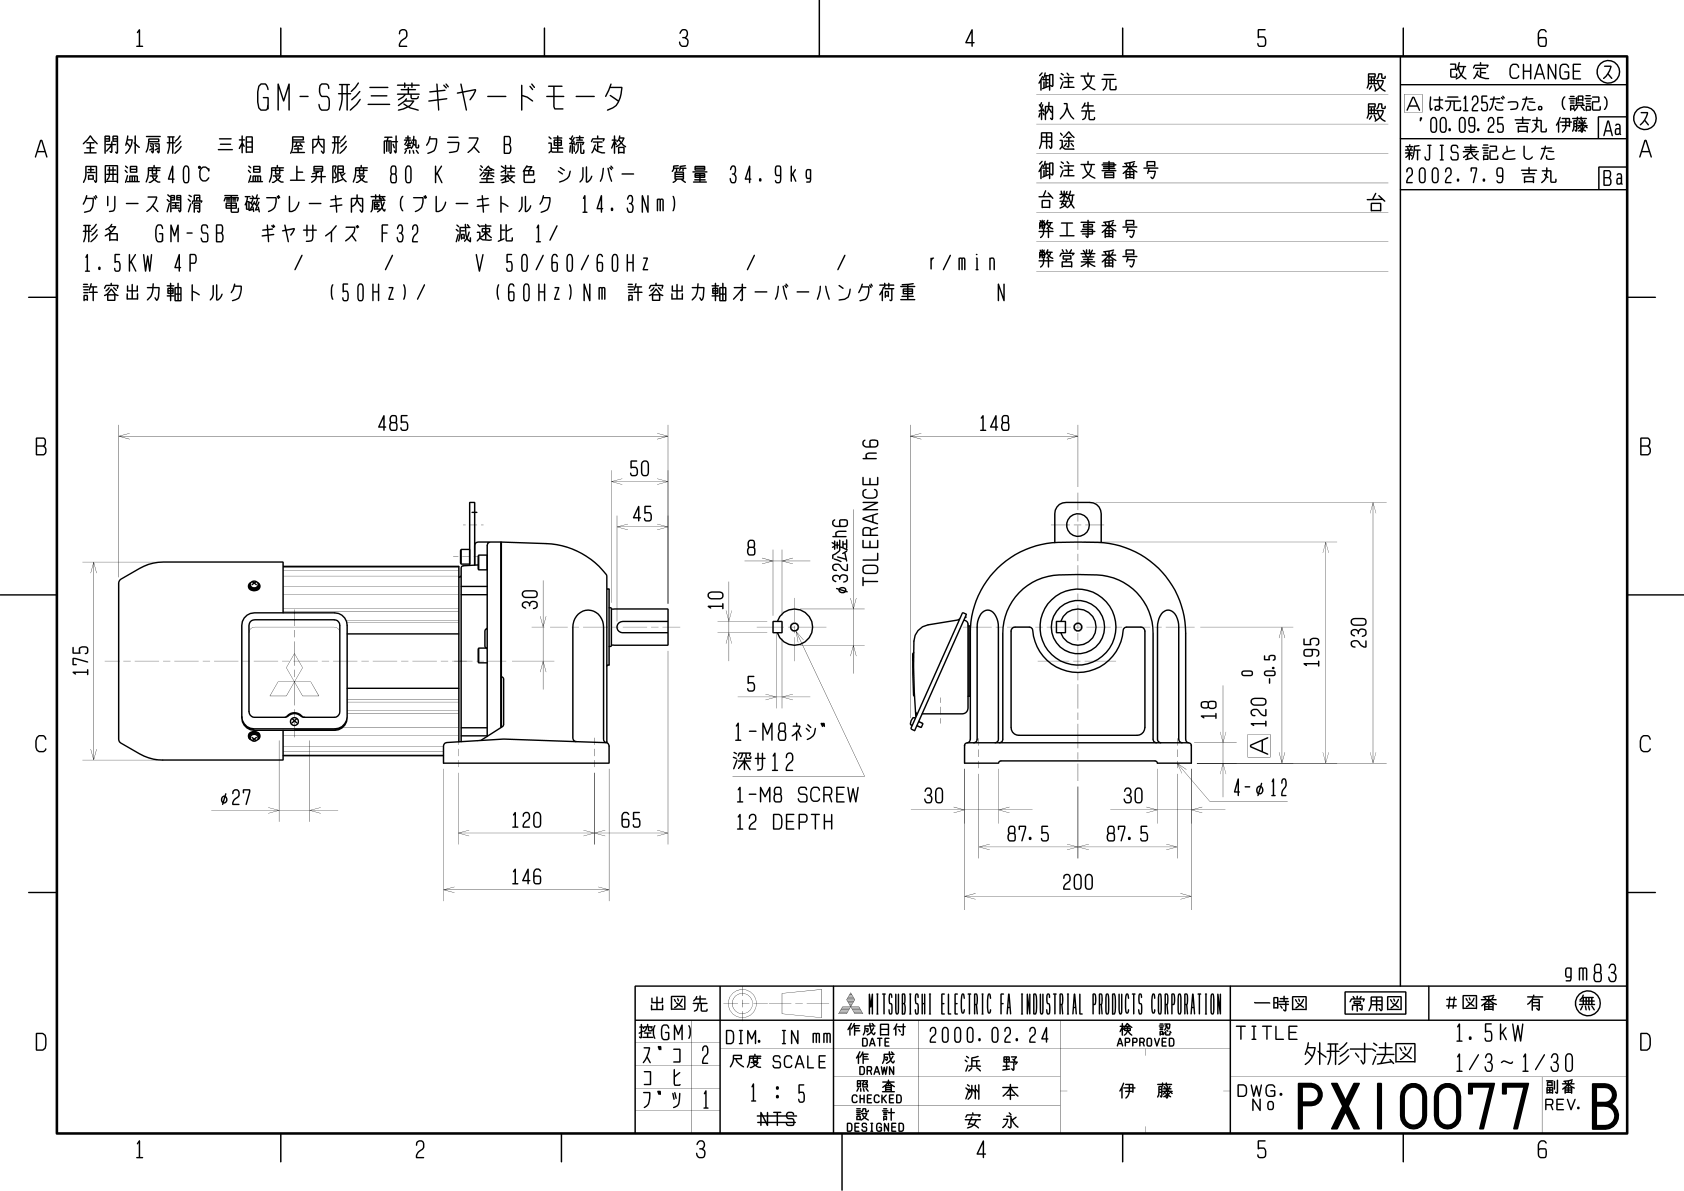GM_S_屋内＿三相_脚: (58, 327, 1392, 941)
